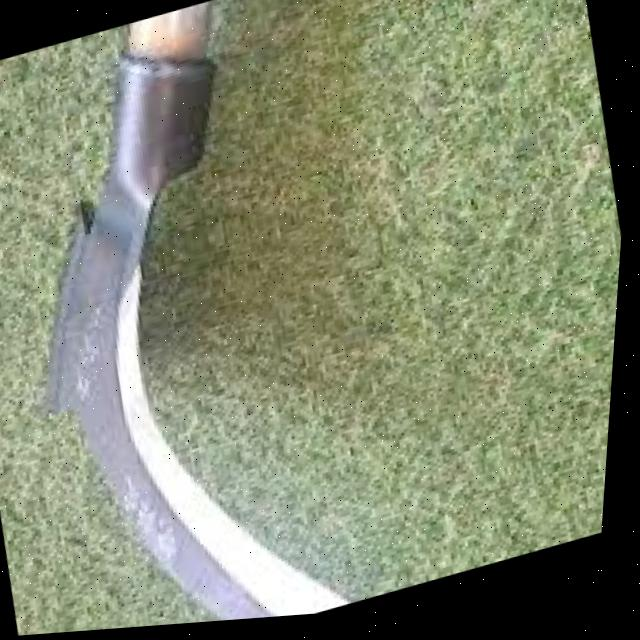sickle: (0, 0, 476, 640)
